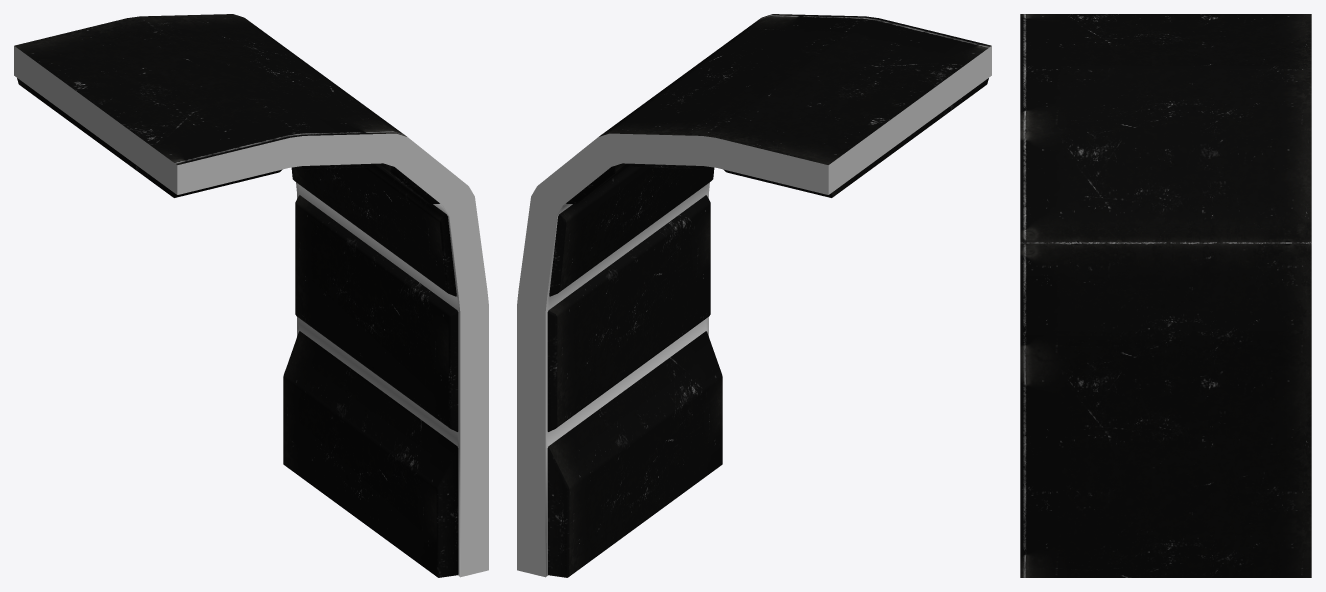
File: SM_TunnelWall.FBX
The picture shows the model from 3 angles, left to right: view 1: azimuth 30°, elevation 25°; view 2: azimuth 150°, elevation 25°; view 3: azimuth 270°, elevation 25°; orthographic projection. The views are drawn at different scales.
Parts seen in each view (by area): view 1: SM_TunnelWall; view 2: SM_TunnelWall; view 3: SM_TunnelWall.
Boxes of the visible parts, box(x1,y1,x2,y2) form: SM_TunnelWall: box(14, 14, 488, 577); SM_TunnelWall: box(517, 14, 991, 577); SM_TunnelWall: box(1020, 14, 1311, 577).
Bounding box in the file's own units: 440 × 650 × 400.
